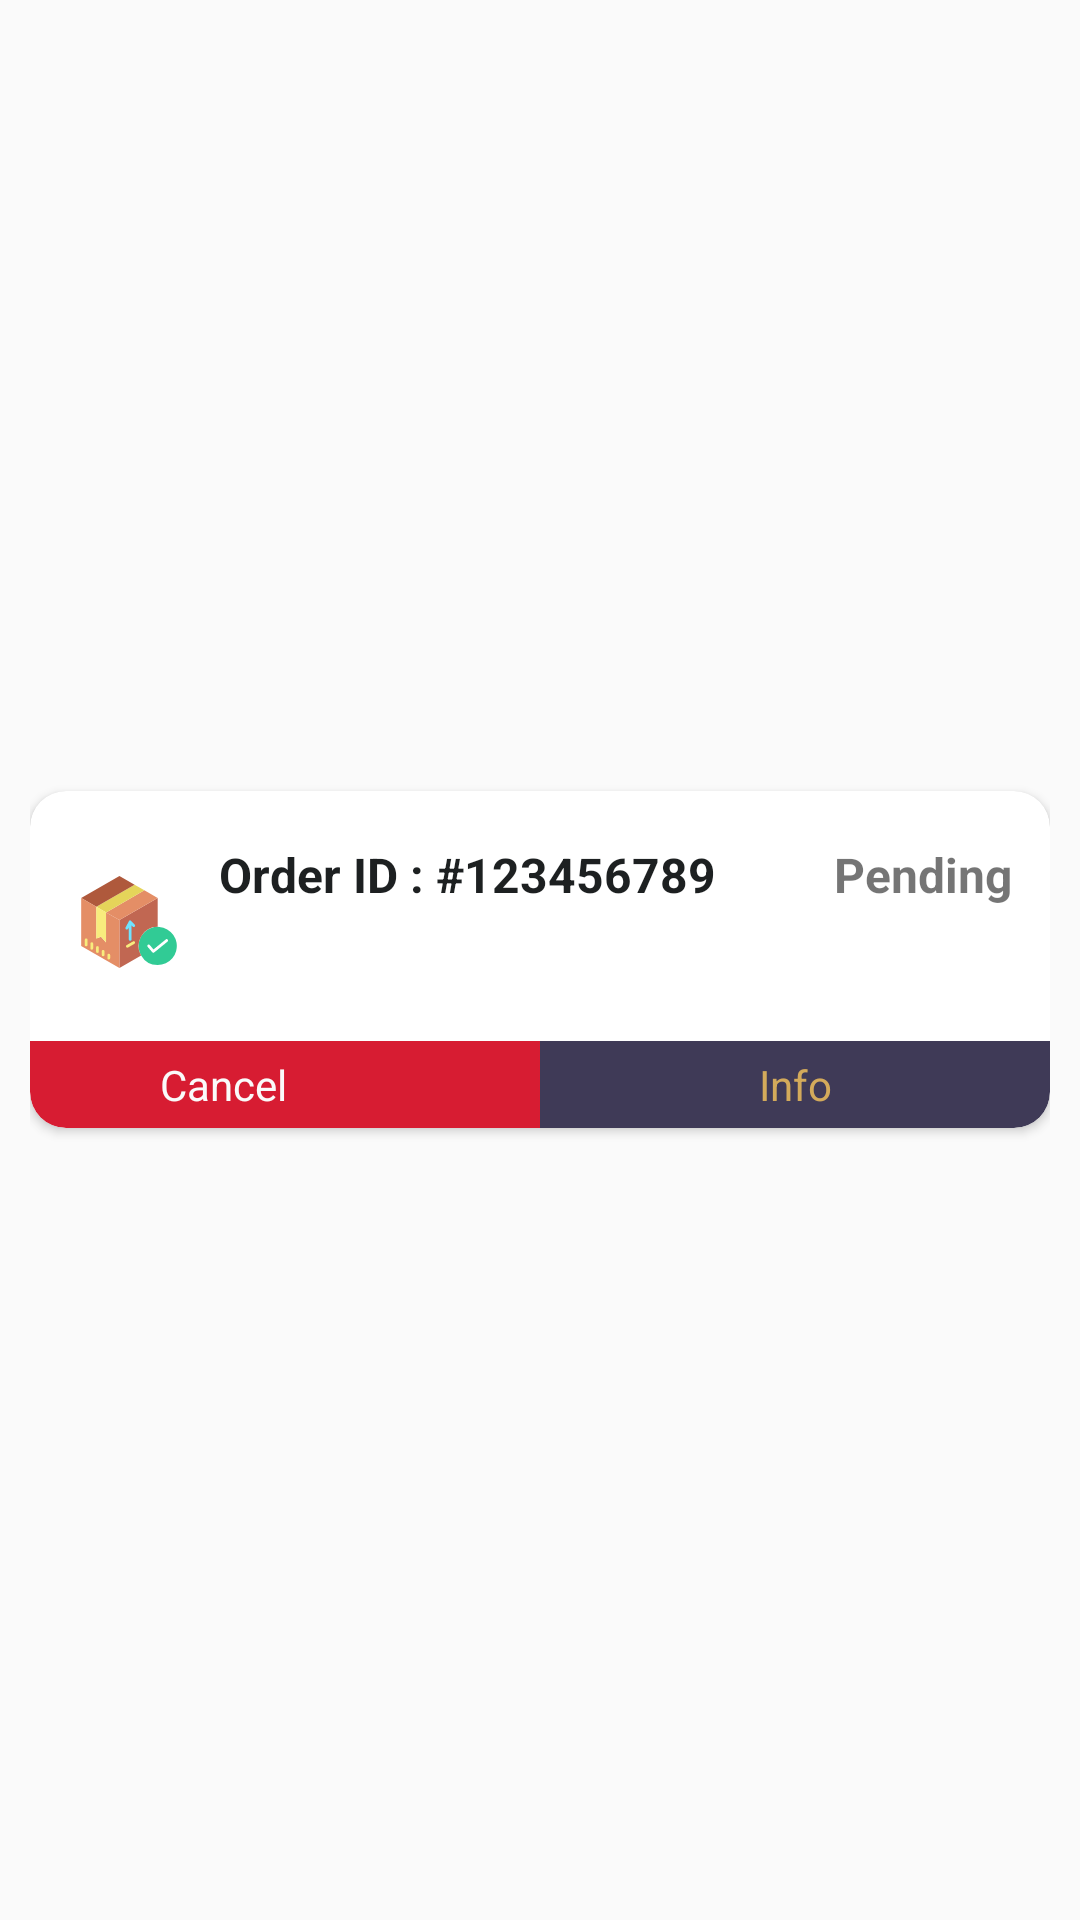

Where to tap for icons on this 1080px×1920px app screen, as point (x, y):
box: point (129, 922)
